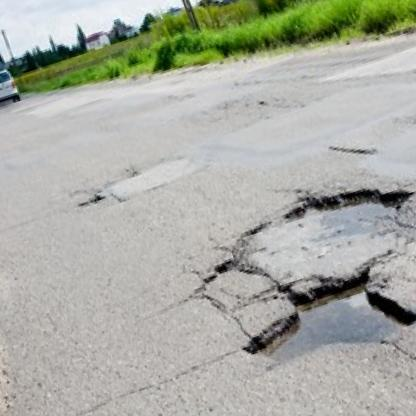pothole: (223, 254, 416, 390), (282, 164, 416, 265), (197, 223, 280, 291), (80, 195, 106, 211)
